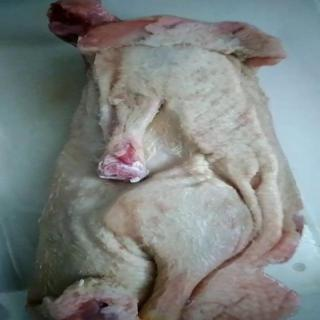Ayam: (24, 1, 306, 320)
